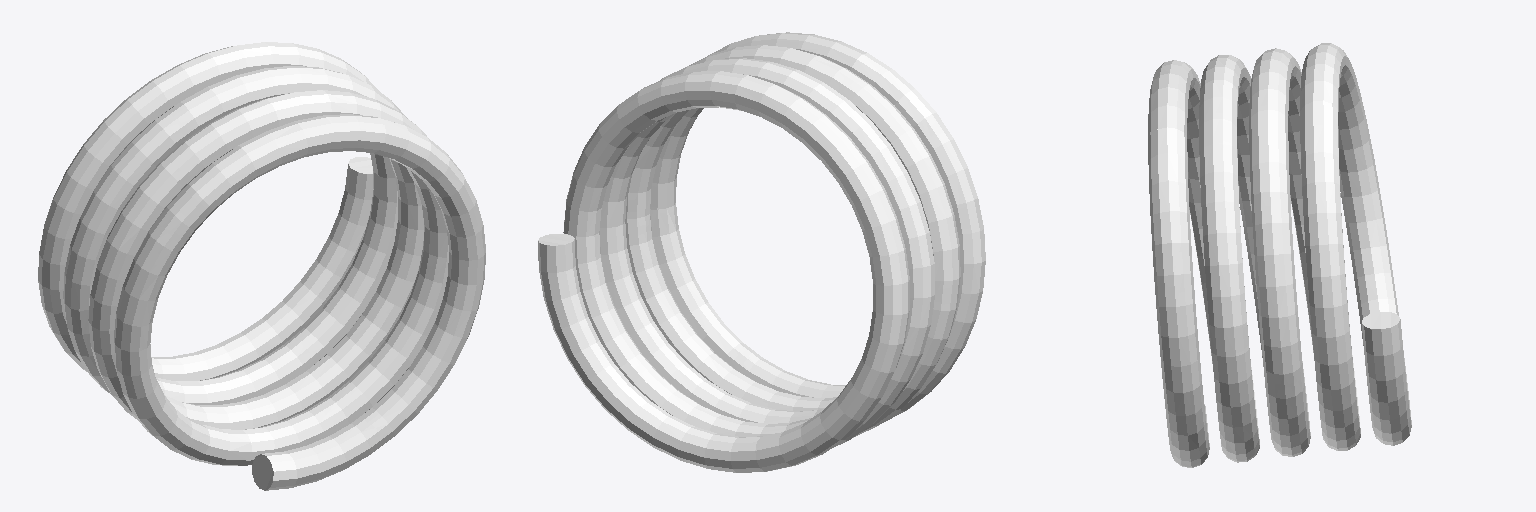
3 renders of one model, left to right at view 1: azimuth 30°, elevation 25°; view 2: azimuth 150°, elevation 25°; view 3: azimuth 270°, elevation 25°, orthographic.
Parts seen in each view (by area): view 1: ARCHMODELS_47_050_24; view 2: ARCHMODELS_47_050_24; view 3: ARCHMODELS_47_050_24.
Part boxes in pixels (bbox=[...]): ARCHMODELS_47_050_24: bbox=[38, 42, 485, 490]; ARCHMODELS_47_050_24: bbox=[538, 32, 985, 472]; ARCHMODELS_47_050_24: bbox=[1148, 43, 1411, 467].
Bounding box in the file's own units: 0.0154 × 0.0161 × 0.0099.
1 materials, 1 textured.